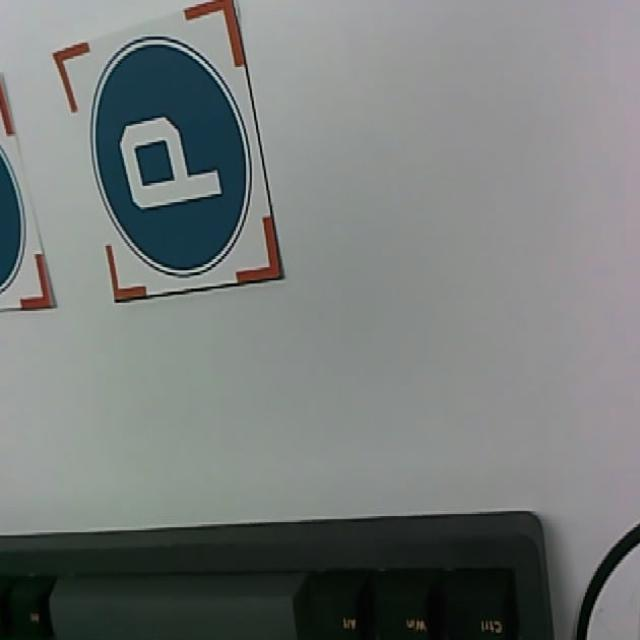parking: (54, 0, 284, 300)
